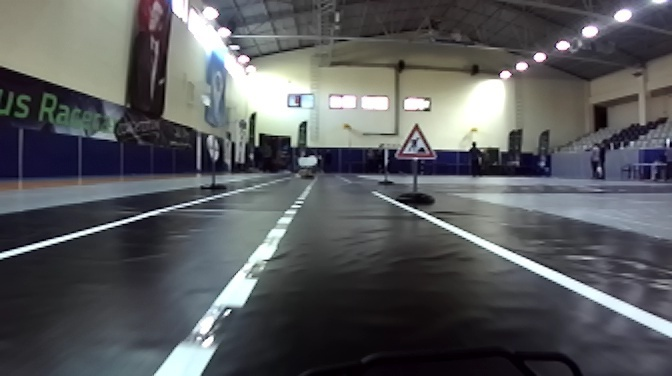yol_yapimi: (394, 120, 437, 158)
